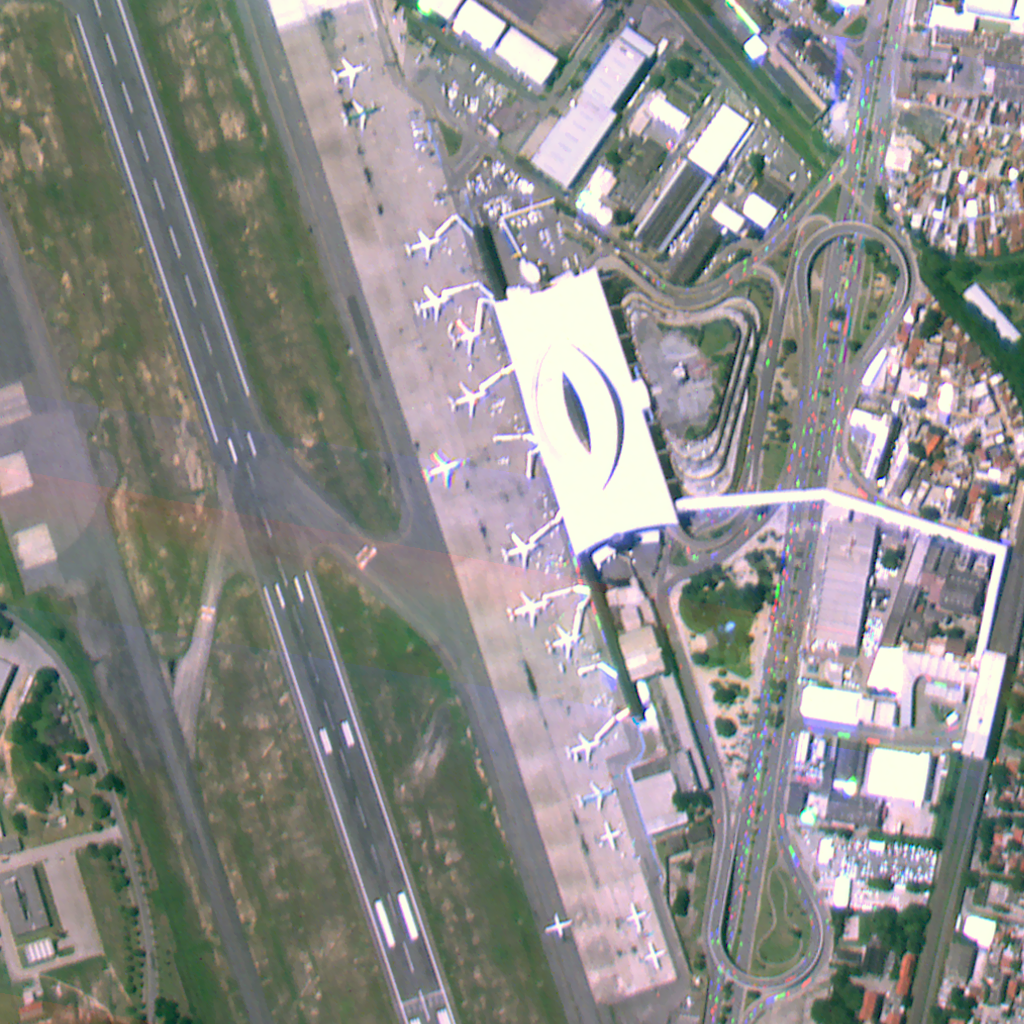plane: (445, 379, 488, 420), (506, 589, 554, 624), (412, 283, 456, 321), (543, 623, 583, 664), (420, 449, 463, 486), (499, 530, 542, 567), (575, 780, 623, 813), (338, 99, 381, 134), (326, 54, 368, 89), (448, 317, 485, 356), (401, 226, 442, 259), (563, 732, 604, 763), (623, 900, 650, 935), (596, 821, 623, 854), (544, 911, 574, 938), (642, 941, 669, 971)
